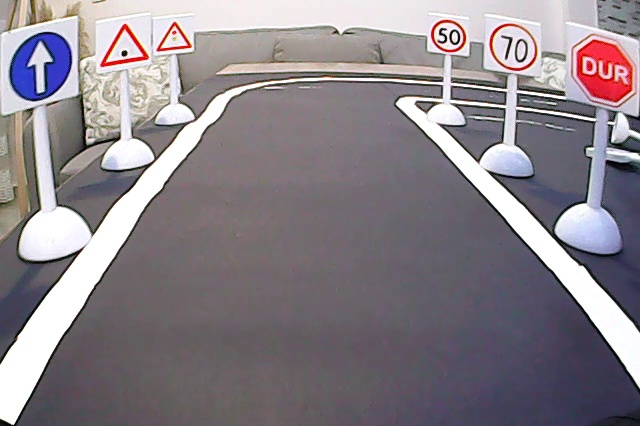green light: (93, 20, 153, 71)
red light: (154, 18, 193, 54)
speed limit 50: (429, 13, 469, 55)
speed limit 70: (487, 16, 540, 75)
stop sign: (568, 26, 640, 116)
